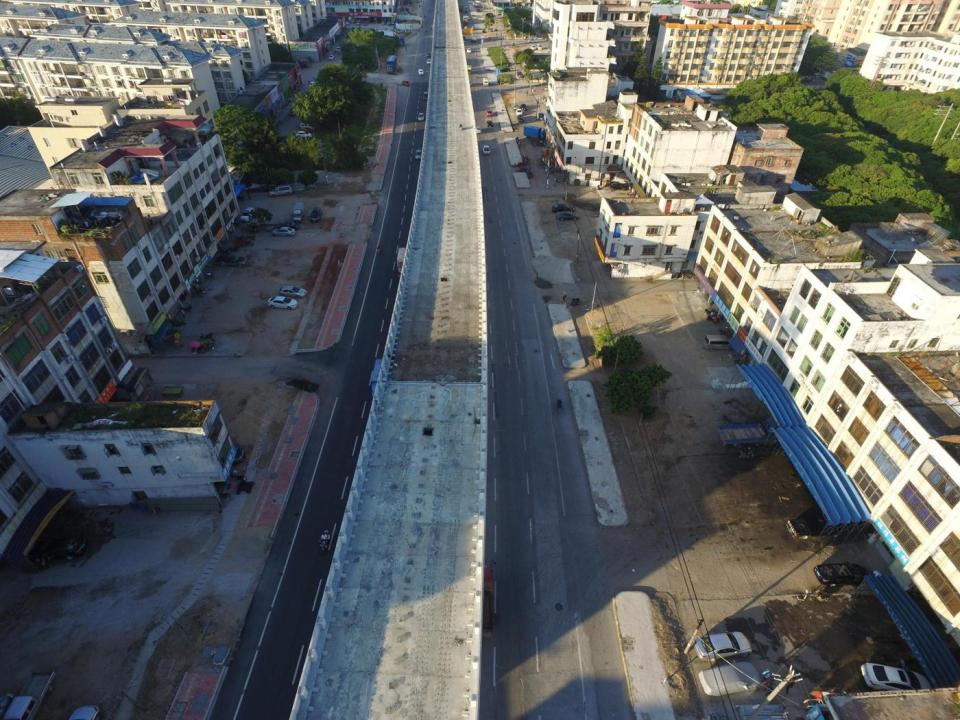car: (860, 659, 932, 699), (699, 659, 760, 696), (694, 630, 754, 662), (34, 534, 88, 566), (814, 560, 869, 587), (266, 294, 298, 310), (213, 253, 248, 267), (278, 284, 308, 297), (270, 227, 296, 238), (555, 211, 579, 222), (551, 202, 575, 213), (239, 207, 254, 223), (606, 179, 626, 190), (274, 221, 298, 230), (309, 206, 322, 222), (294, 130, 312, 140), (300, 120, 316, 130), (297, 127, 313, 135), (288, 105, 298, 116), (481, 145, 491, 154), (520, 102, 528, 112), (498, 67, 511, 73), (517, 112, 524, 123), (414, 149, 421, 159), (417, 112, 424, 122), (466, 64, 472, 75), (516, 70, 524, 78), (475, 125, 482, 134), (482, 78, 489, 87), (401, 80, 411, 86), (515, 108, 522, 116), (486, 120, 493, 128), (528, 38, 537, 44), (486, 109, 493, 116), (422, 92, 428, 100), (418, 68, 424, 76), (310, 81, 316, 88), (537, 43, 543, 50), (334, 47, 342, 52), (466, 47, 472, 53), (530, 44, 536, 50), (329, 54, 334, 60), (426, 58, 431, 64), (426, 51, 431, 57), (390, 19, 395, 25), (362, 20, 368, 25), (386, 20, 391, 25), (381, 20, 385, 25), (356, 20, 359, 26)
truck: (1, 669, 57, 720), (717, 415, 783, 450), (785, 517, 845, 540), (369, 356, 388, 405), (522, 123, 548, 142), (396, 247, 410, 278), (292, 201, 306, 223), (385, 55, 398, 73), (398, 36, 405, 48), (470, 34, 478, 43), (457, 2, 463, 12), (463, 15, 468, 23), (464, 6, 469, 12)
van: (702, 333, 734, 352), (268, 184, 292, 197)
